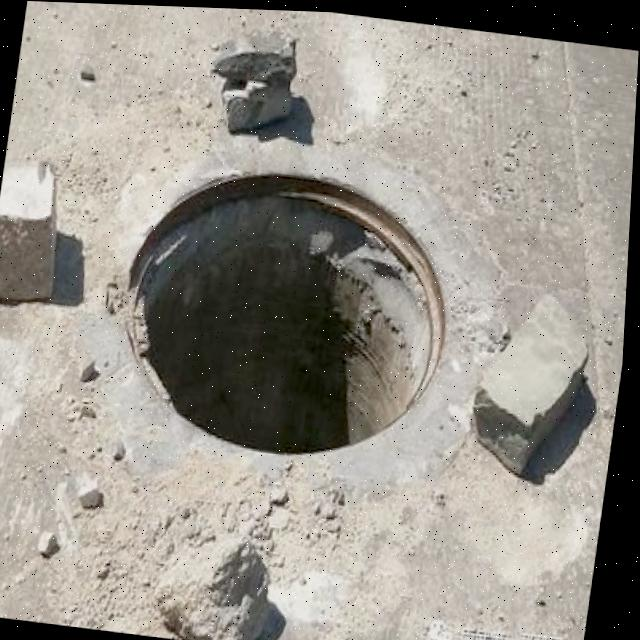manhole: (100, 134, 474, 478)
